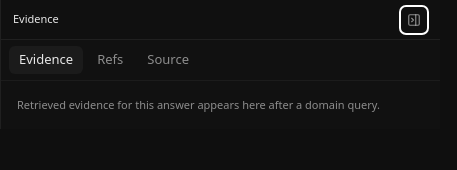
Test: chat inspector workbench (P9-03 Library enable) › shows contextual empty states when a turn has no evidence or refs
Expected: the text "Retrieved evidence for this answer" is shown, [17,96,380,112]
Click the tab with test id "inspector-tab-refs" at (110, 60), box [87,46,133,74]
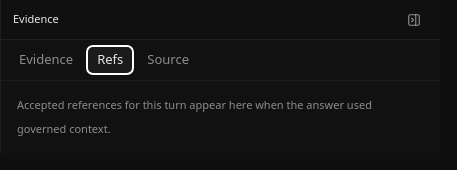
Expected: the text "Accepted references for this turn" is shown, [17,96,372,136]
Click the tab with test id "inspector-tab-source" at (168, 60), box [137,46,199,74]
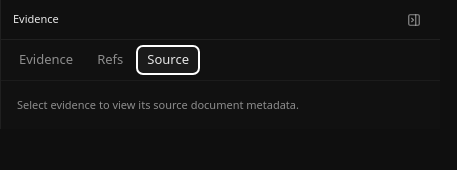
Expected: the text "Select evidence to view its source document metadata." is shown, [17,96,299,112]
